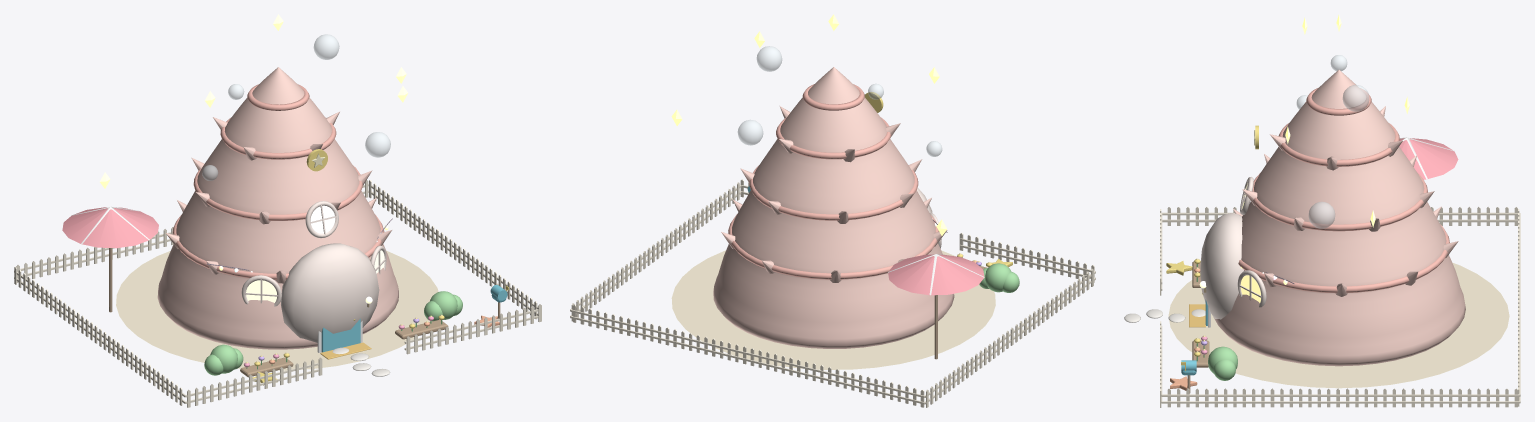
Rendered from building_ocean_L10.glb.
3 views of the same model, side by side, from view 1: azimuth 30°, elevation 25°; view 2: azimuth 150°, elevation 25°; view 3: azimuth 270°, elevation 25° (orthographic). The views are drawn at different scales.
Parts seen in each view (by area): view 1: Body, ocean_L10, object 2; view 2: Body, ocean_L10; view 3: Body, ocean_L10.
Boxes of the visible parts, bbox=[...] form: Body: bbox=[62, 34, 499, 385]; ocean_L10: bbox=[14, 14, 541, 407]; object 2: bbox=[310, 205, 335, 233]; Body: bbox=[671, 46, 1012, 369]; ocean_L10: bbox=[570, 14, 1095, 407]; Body: bbox=[1166, 55, 1509, 390]; ocean_L10: bbox=[1124, 14, 1520, 407].
Size of the model in its own units: 25.35 by 19.99 by 23.24.
